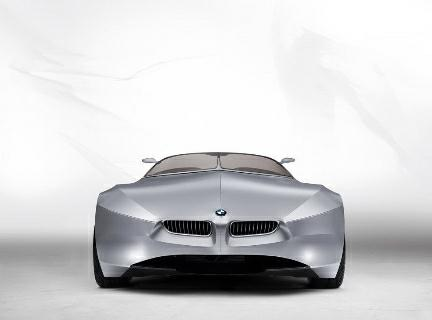宝马-GINA: (86, 147, 352, 302)
